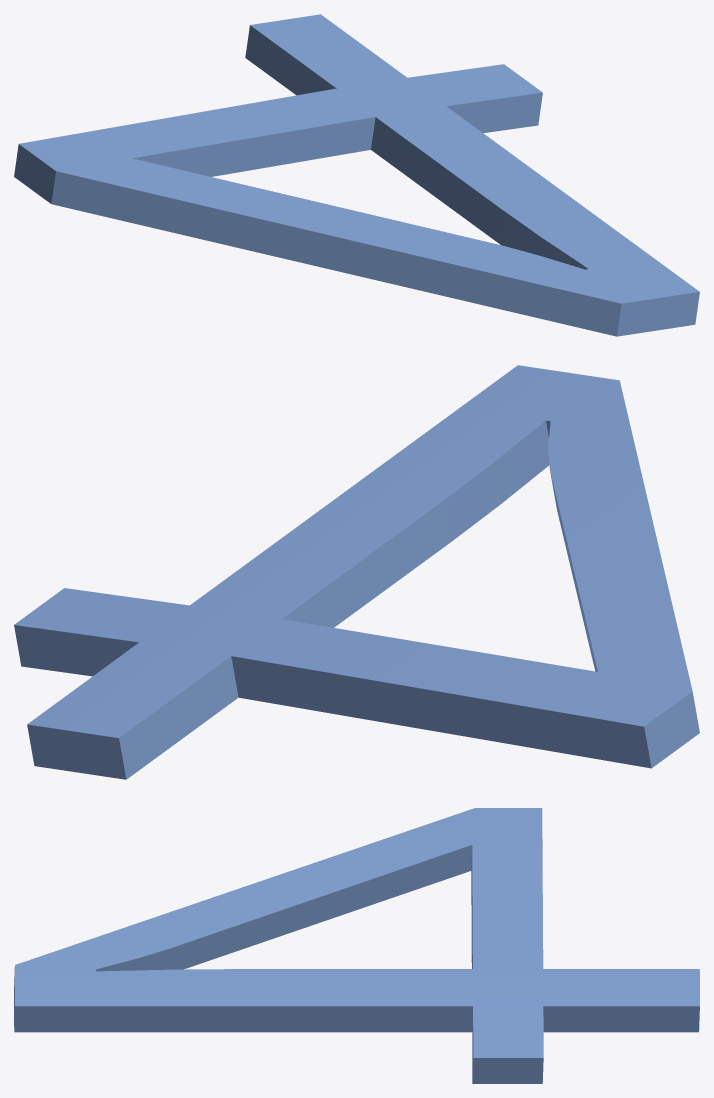
Rendered from New_Number_4.gltf.
3 views of the same model, one above another, from view 1: azimuth 30°, elevation 25°; view 2: azimuth 150°, elevation 25°; view 3: azimuth 270°, elevation 25° (orthographic). The views are drawn at different scales.
Parts seen in each view (by area): view 1: Part 328; view 2: Part 328; view 3: Part 328.
Part boxes in pixels (box(x1,y1,x2,y2)): Part 328: box(14, 14, 699, 336); Part 328: box(14, 365, 699, 779); Part 328: box(14, 808, 699, 1083).
Bounding box in the file's own units: 0.00413 × 0.000568 × 0.00553.
